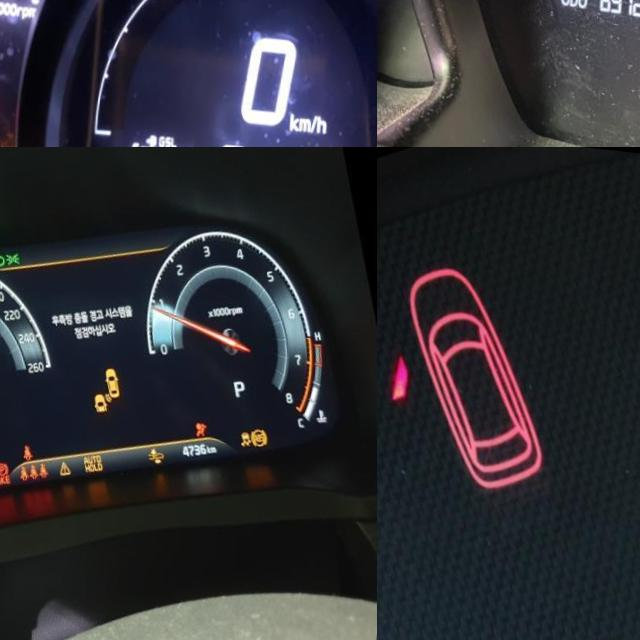Central Warning lamp: (60, 450, 75, 469)
Low beam: (0, 244, 8, 263)
SideLamp: (4, 242, 23, 262)
